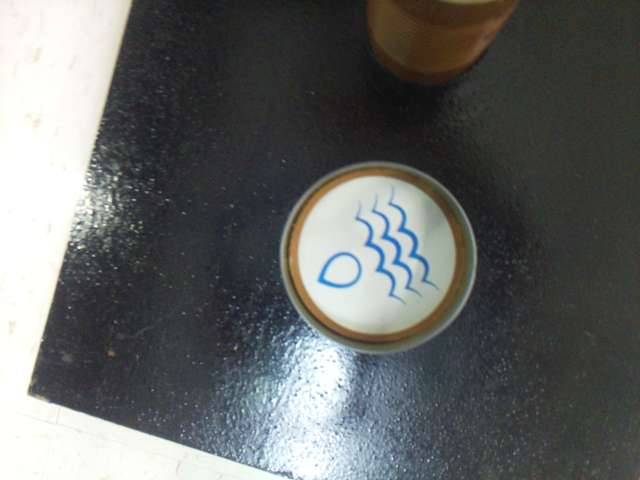water_barrel: (305, 172, 446, 319)
